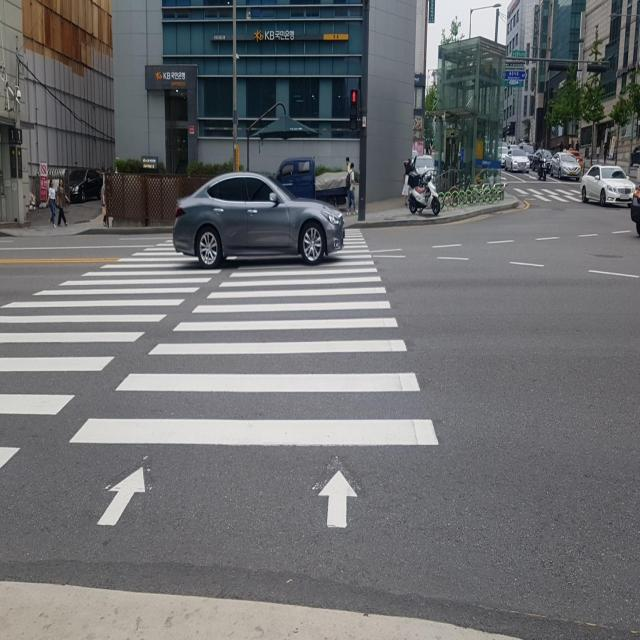빨간불: (349, 88, 359, 131)
횡단보도: (0, 209, 440, 537)
